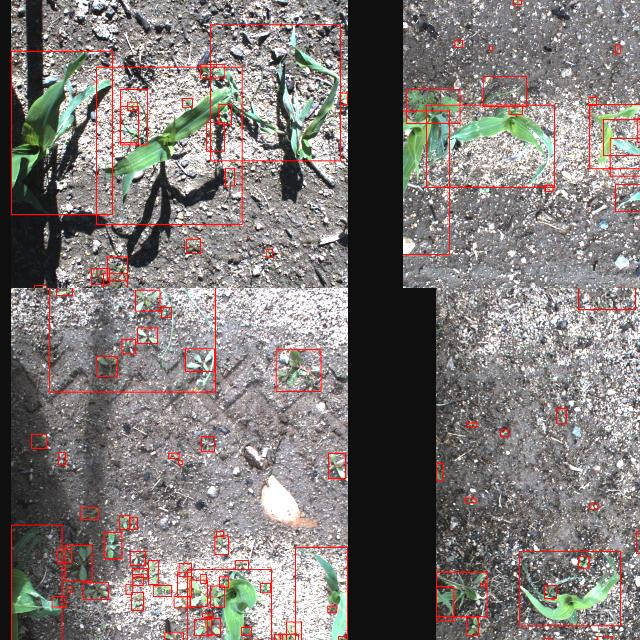crop: (96, 67, 242, 225), (210, 25, 342, 161), (10, 51, 111, 215), (426, 105, 554, 187), (520, 552, 620, 626), (403, 111, 449, 255), (186, 569, 271, 640), (11, 524, 61, 640), (296, 547, 348, 640), (590, 104, 640, 169), (436, 572, 486, 616), (610, 138, 640, 176), (616, 184, 640, 211), (436, 586, 454, 622)
weed: (49, 288, 215, 392), (276, 349, 322, 391), (406, 89, 460, 123), (120, 89, 148, 145), (603, 120, 640, 156), (483, 76, 527, 106), (578, 288, 635, 309), (65, 545, 91, 581), (186, 348, 214, 372), (120, 107, 138, 143), (206, 122, 224, 152), (134, 290, 160, 310), (107, 256, 127, 280), (82, 582, 108, 600), (104, 532, 122, 558), (190, 580, 208, 606), (96, 356, 118, 376), (328, 454, 346, 478), (176, 573, 192, 597), (103, 273, 127, 288), (200, 64, 224, 78), (90, 268, 110, 284), (137, 328, 157, 344), (194, 620, 212, 636), (218, 104, 232, 124), (210, 586, 224, 606), (286, 622, 301, 640), (215, 536, 229, 554), (148, 560, 158, 584), (466, 616, 478, 636), (186, 238, 200, 254), (56, 548, 72, 562), (131, 592, 143, 610), (80, 508, 98, 520), (173, 596, 190, 608), (152, 586, 172, 596), (121, 340, 135, 354), (32, 434, 46, 448), (130, 551, 144, 565), (202, 436, 214, 452), (208, 618, 220, 634), (225, 168, 235, 186), (51, 596, 65, 608), (178, 564, 192, 576), (132, 568, 148, 578), (556, 408, 566, 424), (164, 632, 183, 640), (544, 586, 556, 598), (119, 516, 129, 530), (280, 633, 298, 640), (133, 574, 143, 586), (236, 560, 248, 570), (579, 556, 589, 568), (635, 530, 640, 553), (509, 107, 523, 115), (56, 288, 72, 295), (436, 464, 442, 481), (161, 307, 171, 317), (261, 583, 271, 593), (57, 453, 65, 465), (220, 576, 228, 588), (182, 99, 192, 108), (340, 94, 348, 105), (127, 102, 137, 110), (241, 627, 251, 635), (589, 96, 597, 105), (130, 518, 136, 530), (126, 584, 132, 594), (200, 574, 206, 584), (328, 606, 338, 612), (454, 41, 462, 48), (500, 429, 508, 436), (266, 249, 272, 257), (545, 185, 553, 191), (275, 634, 283, 640), (597, 637, 613, 640), (464, 498, 476, 502), (616, 44, 620, 54), (169, 454, 179, 458), (203, 613, 213, 617), (466, 423, 476, 427), (34, 285, 46, 288), (338, 636, 347, 640), (514, 0, 522, 4), (216, 532, 224, 536), (590, 504, 598, 508), (67, 586, 71, 592), (178, 461, 182, 465), (543, 638, 551, 640), (490, 46, 492, 50), (480, 584, 484, 586), (618, 287, 622, 288)
